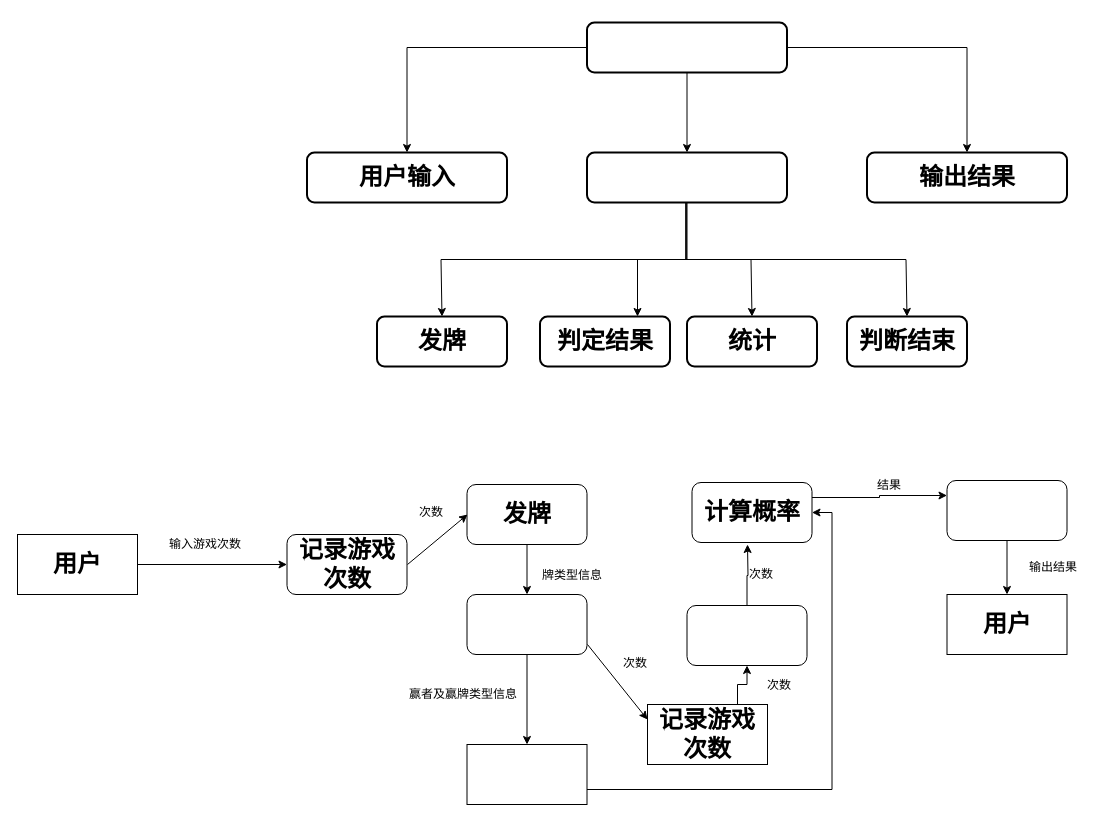
The diagram is 1105 pixels wide and 837 high, and some of its shapes have lost their labels. The shapes that lost their labels are listed below. From the top down, each one's centre as x and y in pixels, then its label:
At (687,47): "扑克牌游戏".
At (687,177): "循环模拟".
At (1006,510): "打印结果".
At (526,624): "判定输赢".
At (746,635): "是否结束".
At (526,774): "保存类型信息".
